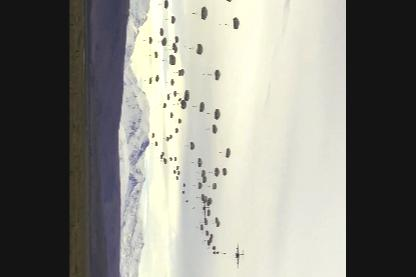C2: (236, 240, 244, 267)
